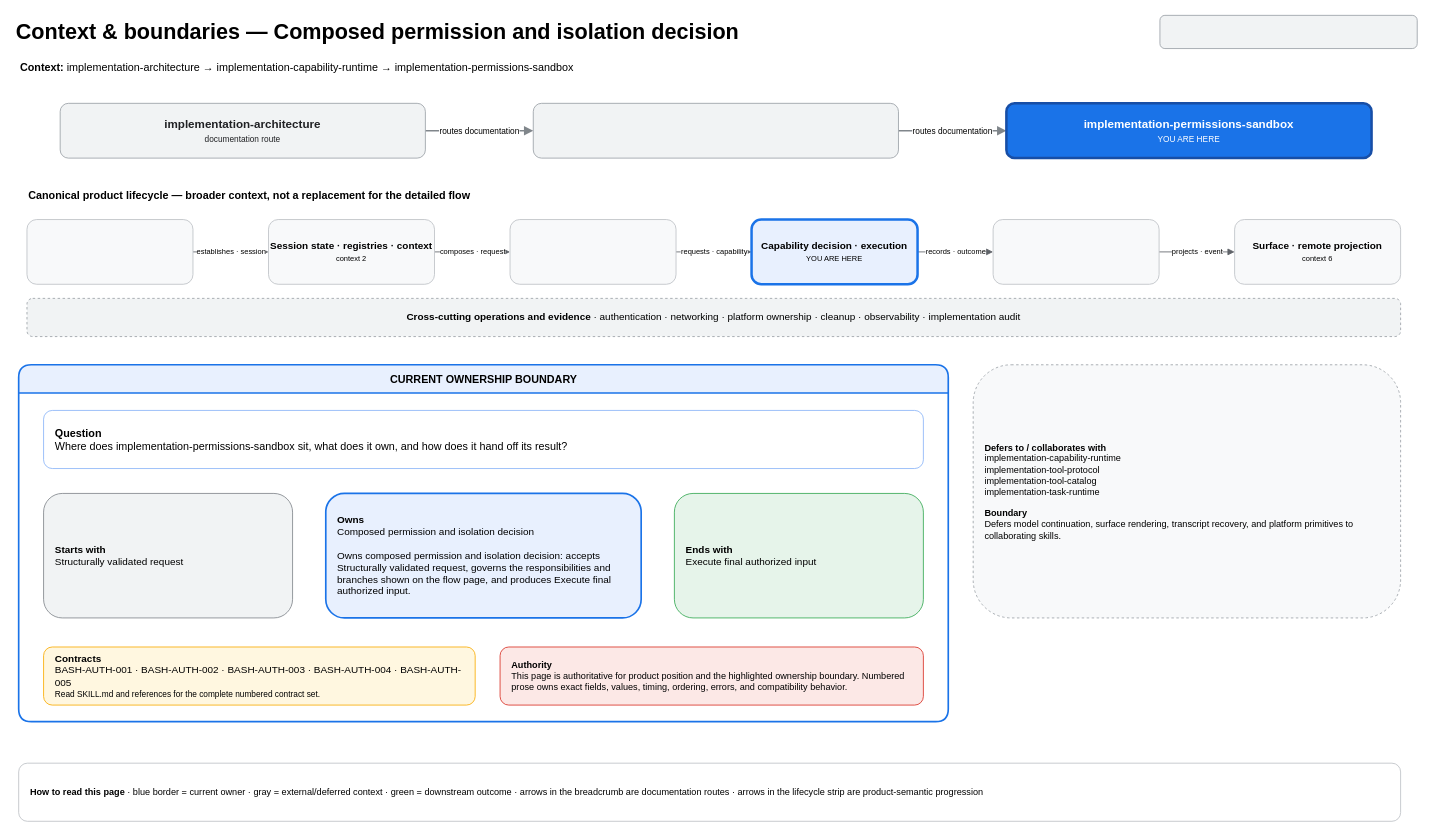
The diagram is 1432 pixels wide and 836 high, and some of its shapes have lost their labels. Each missing label, with the centre of its shape:
architecture overview · template 2.0-context-flow: pixel 1288 32
Entrypoint · identity · policy context 1: pixel 109 251
implementation-capability-runtime documentation route: pixel 715 130
Query engine · model stream context 3: pixel 592 251
Transcript · tasks · continuity context 5: pixel 1075 251
